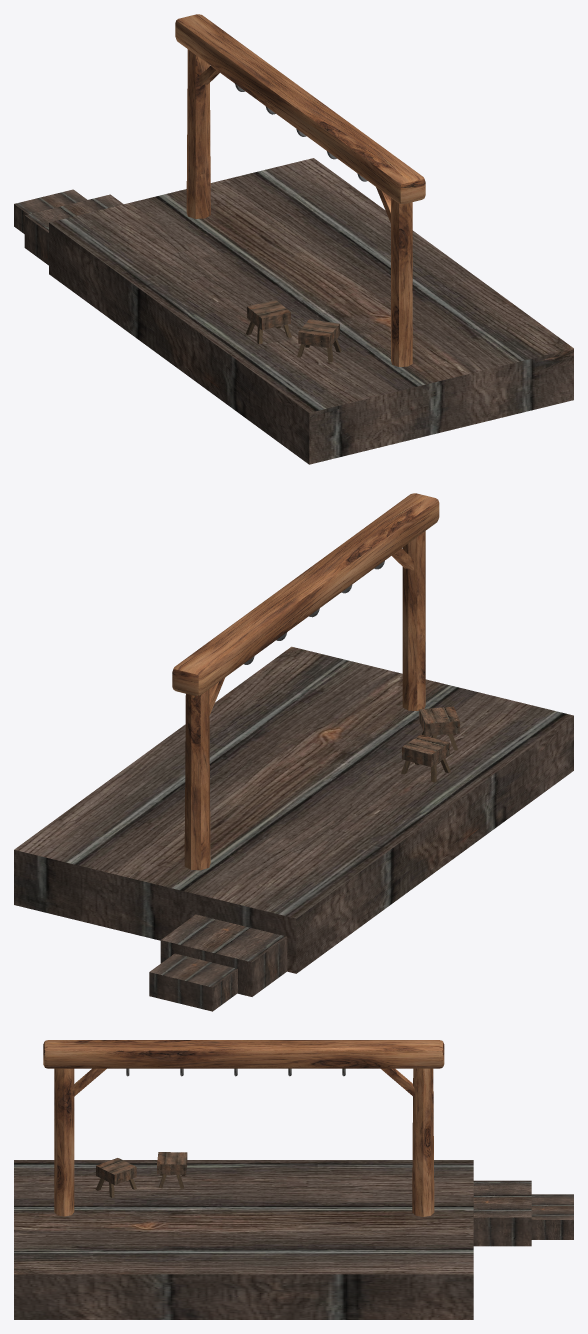
Rendered from HangingStable.fbx.
The picture shows the model from 3 angles, top to bottom: view 1: azimuth 30°, elevation 25°; view 2: azimuth 150°, elevation 25°; view 3: azimuth 270°, elevation 25°; orthographic projection. The views are drawn at different scales.
Visible parts, largest first — view 1: Cube, Cube.003, Cylinder, Cube.001, Cube.002, Cube.007, Cube.005; view 2: Cube, Cube.003, Cylinder, Cube.001, Cube.002, Cube.007, Cube.005; view 3: Cube, Cube.003, Cylinder, Cube.001, Cube.002, Cube.005, Cube.004, Cube.007.
Part boxes in pixels (box(x1,y1,x2,y2)): Cube: box(49, 158, 573, 464); Cube.003: box(175, 14, 425, 204); Cylinder: box(186, 49, 412, 366); Cube.001: box(24, 194, 123, 265); Cube.002: box(14, 189, 87, 233); Cube.007: box(247, 300, 290, 329); Cube.005: box(298, 319, 339, 348); Cube: box(14, 646, 573, 973); Cube.003: box(172, 493, 439, 695); Cylinder: box(184, 531, 425, 870); Cube.001: box(160, 914, 287, 996); Cube.002: box(149, 953, 237, 1011); Cube.007: box(402, 734, 449, 766); Cube.005: box(419, 706, 459, 735); Cube: box(14, 1160, 473, 1319); Cube.003: box(43, 1040, 444, 1068); Cylinder: box(54, 1068, 434, 1216); Cube.001: box(473, 1180, 531, 1246); Cube.002: box(531, 1194, 573, 1239); Cube.005: box(96, 1158, 136, 1184); Cube.004: box(72, 1068, 414, 1097); Cube.007: box(157, 1152, 187, 1174).
Size of the model in its own units: 350 by 306 by 726.
Materials: 5 (5 with a texture image).
